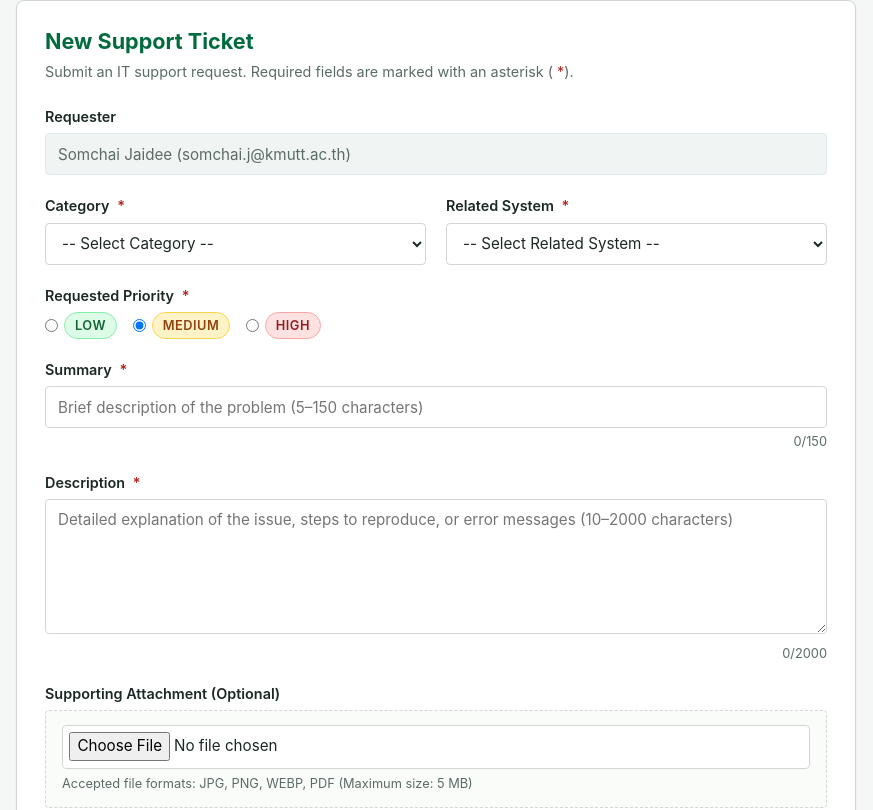
Scenario: Create Ticket UI & Validation (Issue 6) › UI-03: Client-Side Validation (AC-02, AC-03) › UI-03 (AC-03): displays inline error when description is less than 10 characters
Type "Valid Ticket Summary" into the field labelled "Summary *" at coordinates (436, 408), box top-left (45, 386), bottom-right (827, 428)
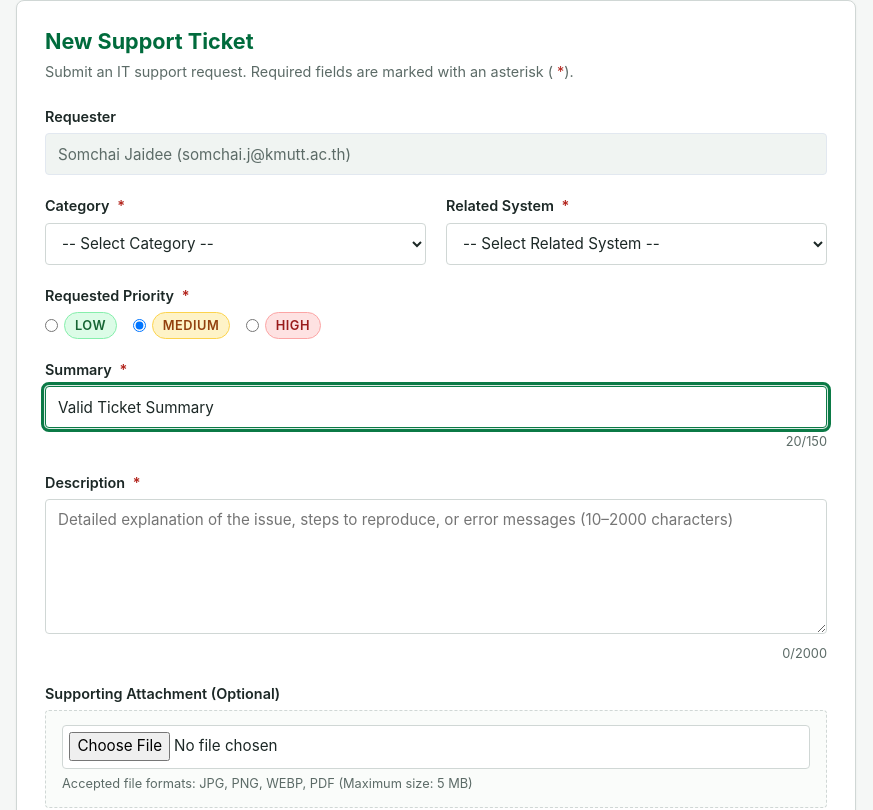
Type "Short" into the text box labelled "Description *" at coordinates (436, 566), box top-left (45, 499), bottom-right (827, 634)
(page scrolled)
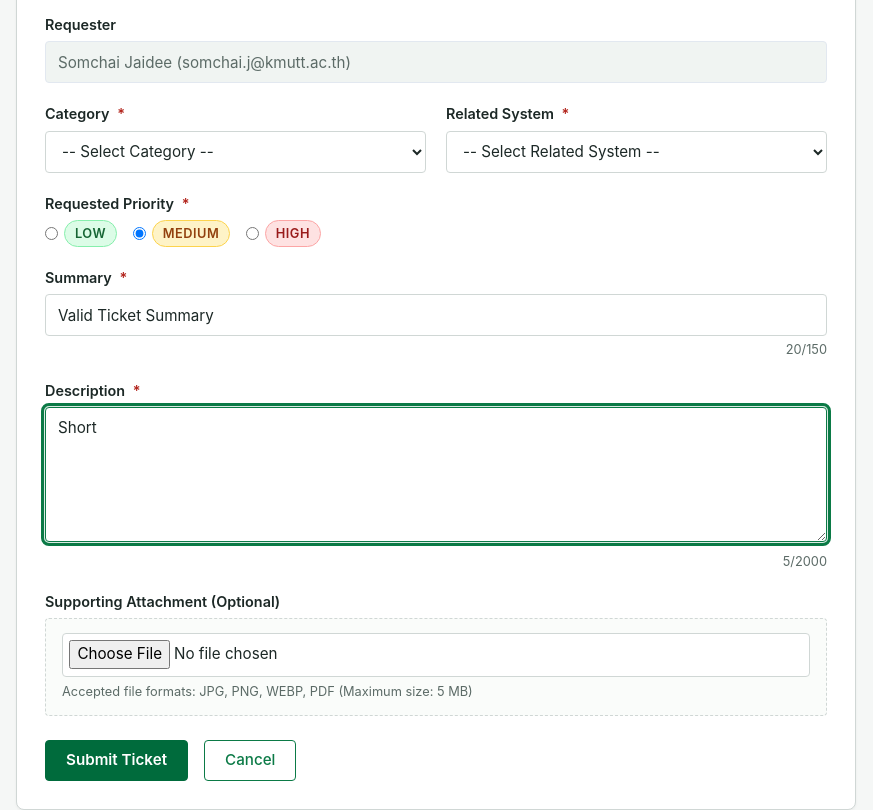
Click the button "Submit Ticket" at coordinates (116, 760), box top-left (45, 740), bottom-right (188, 781)
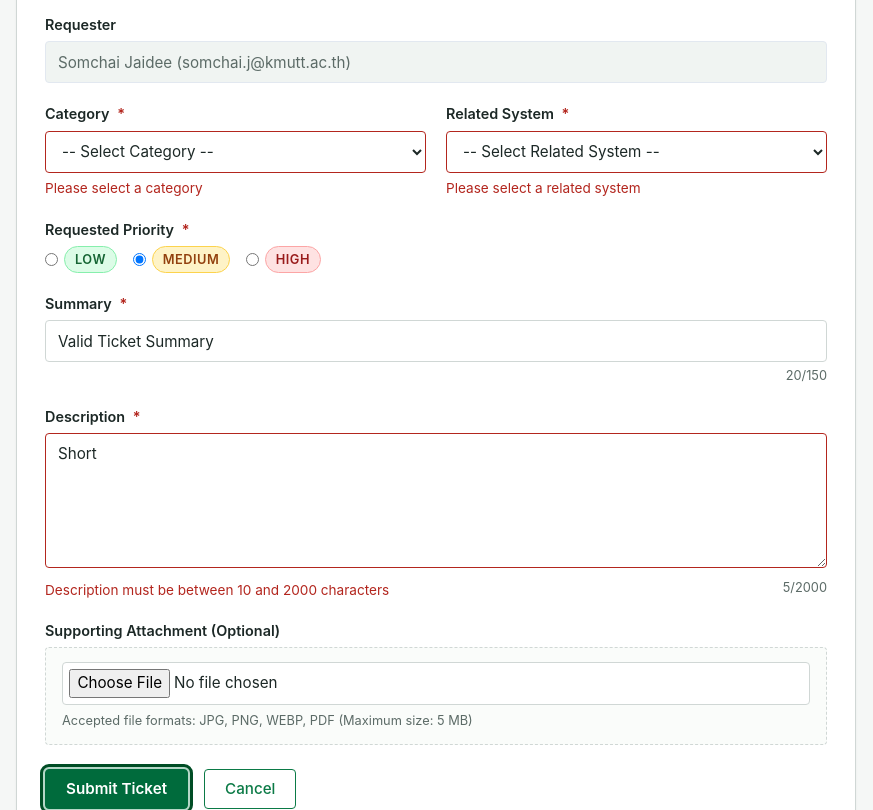
Now the text "Description must be between 10 and 2000 characters" is shown, box top-left (45, 580), bottom-right (389, 600)
